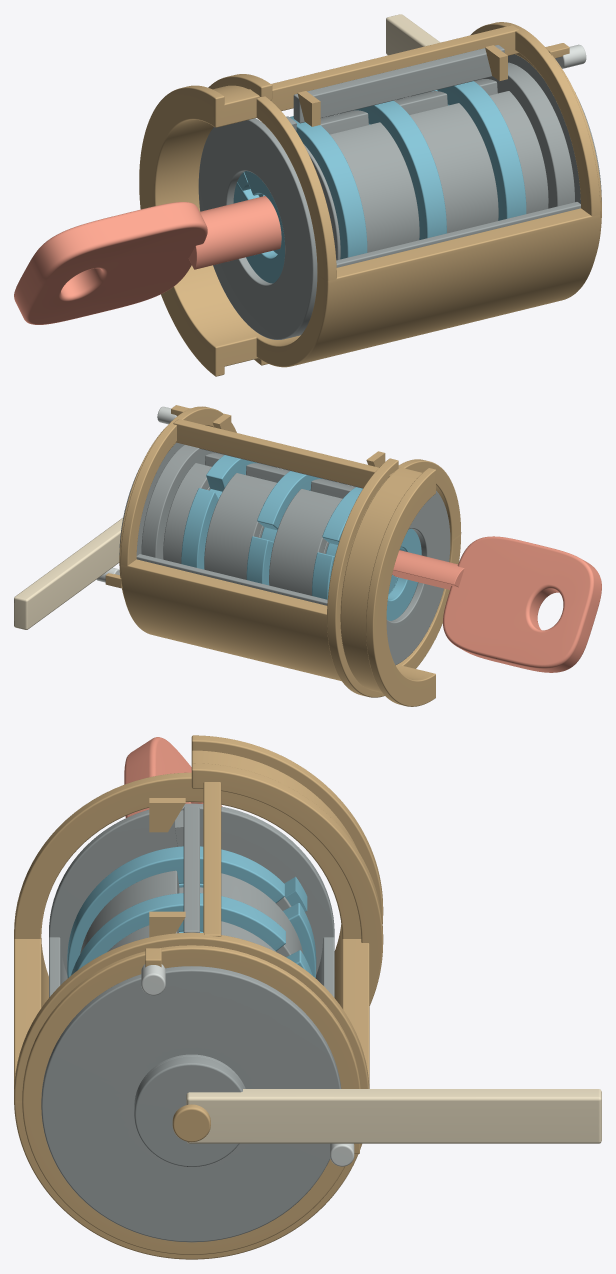
Rendered from disc.glb.
3 renders of one model, top to bottom at view 1: azimuth 30°, elevation 25°; view 2: azimuth 150°, elevation 25°; view 3: azimuth 270°, elevation 25°, orthographic. The views are drawn at different scales.
Visible parts, largest first — view 1: Fixed cylinder housing cutaway (inspection), Disc key bow (inspection), Front carrier retaining ring (inspection), Housing front neck cutaway (inspection), Stationary spacer 1 sidebar clearance (inspection), Stationary spacer 2 sidebar clearance (inspection), Cylinder front mounting flange (inspection), Sidebar (inspection), Housing end collar (inspection), Housing groove far wall (inspection), Half-round key neck (inspection), Disc 3 peripheral gate ring (inspection) (+14 smaller); view 2: Disc key bow (inspection), Fixed cylinder housing cutaway (inspection), Cylinder front mounting flange (inspection), Housing front neck cutaway (inspection), Stationary spacer 1 sidebar clearance (inspection), Stationary spacer 2 sidebar clearance (inspection), Housing groove far wall (inspection), Quarter-turn cabinet cam (inspection), Front carrier retaining ring (inspection), Rear clamping ring (inspection), Housing end collar.001 (inspection), Disc 3 peripheral gate ring (inspection) (+9 smaller); view 3: Rear axial retaining washer (inspection), Quarter-turn cabinet cam (inspection), Fixed rear housing shoulder (inspection), Front carrier retaining ring (inspection), Housing end collar (inspection), Fixed cylinder housing cutaway (inspection), Rear clamping ring (inspection), Housing end collar.001 (inspection), Rear output spindle (inspection), Disc 1 peripheral gate ring (inspection), Disc 2 peripheral gate ring (inspection), Stationary spacer 1 sidebar clearance (inspection) (+11 smaller).
Part boxes in pixels (<box>): Fixed cylinder housing cutaway (inspection): <box>256,208,600,367</box>; Disc key bow (inspection): <box>14,202,207,324</box>; Front carrier retaining ring (inspection): <box>198,118,317,339</box>; Housing front neck cutaway (inspection): <box>158,85,259,367</box>; Stationary spacer 1 sidebar clearance (inspection): <box>320,110,419,252</box>; Stationary spacer 2 sidebar clearance (inspection): <box>394,91,498,233</box>; Cylinder front mounting flange (inspection): <box>139,85,224,376</box>; Sidebar (inspection): <box>293,45,504,123</box>; Housing end collar (inspection): <box>197,96,336,366</box>; Housing groove far wall (inspection): <box>249,25,518,110</box>; Half-round key neck (inspection): <box>188,196,281,269</box>; Disc 3 peripheral gate ring (inspection): <box>432,81,526,220</box>; Disc key bow (inspection): <box>443,536,601,672</box>; Fixed cylinder housing cutaway (inspection): <box>120,534,460,680</box>; Cylinder front mounting flange (inspection): <box>366,468,435,706</box>; Housing front neck cutaway (inspection): <box>340,467,432,692</box>; Stationary spacer 1 sidebar clearance (inspection): <box>269,479,355,595</box>; Stationary spacer 2 sidebar clearance (inspection): <box>204,463,289,579</box>; Housing groove far wall (inspection): <box>173,419,393,487</box>; Quarter-turn cabinet cam (inspection): <box>14,517,123,629</box>; Front carrier retaining ring (inspection): <box>386,491,450,665</box>; Rear clamping ring (inspection): <box>327,458,398,697</box>; Housing end collar.001 (inspection): <box>120,406,236,566</box>; Disc 3 peripheral gate ring (inspection): <box>181,455,257,569</box>; Rear axial retaining washer (inspection): <box>41,966,341,1242</box>; Quarter-turn cabinet cam (inspection): <box>186,1089,601,1143</box>; Fixed rear housing shoulder (inspection): <box>22,945,360,1254</box>; Front carrier retaining ring (inspection): <box>49,803,334,974</box>; Housing end collar (inspection): <box>14,772,361,980</box>; Fixed cylinder housing cutaway (inspection): <box>14,939,369,1259</box>; Rear clamping ring (inspection): <box>191,763,383,1005</box>; Housing end collar.001 (inspection): <box>14,932,369,1258</box>; Rear output spindle (inspection): <box>134,1056,244,1166</box>; Disc 1 peripheral gate ring (inspection): <box>67,846,316,977</box>; Disc 2 peripheral gate ring (inspection): <box>71,893,312,975</box>; Stationary spacer 1 sidebar clearance (inspection): <box>80,870,303,956</box>.
Bounding box in the file's own units: 5.72 × 2.8 × 4.3.
